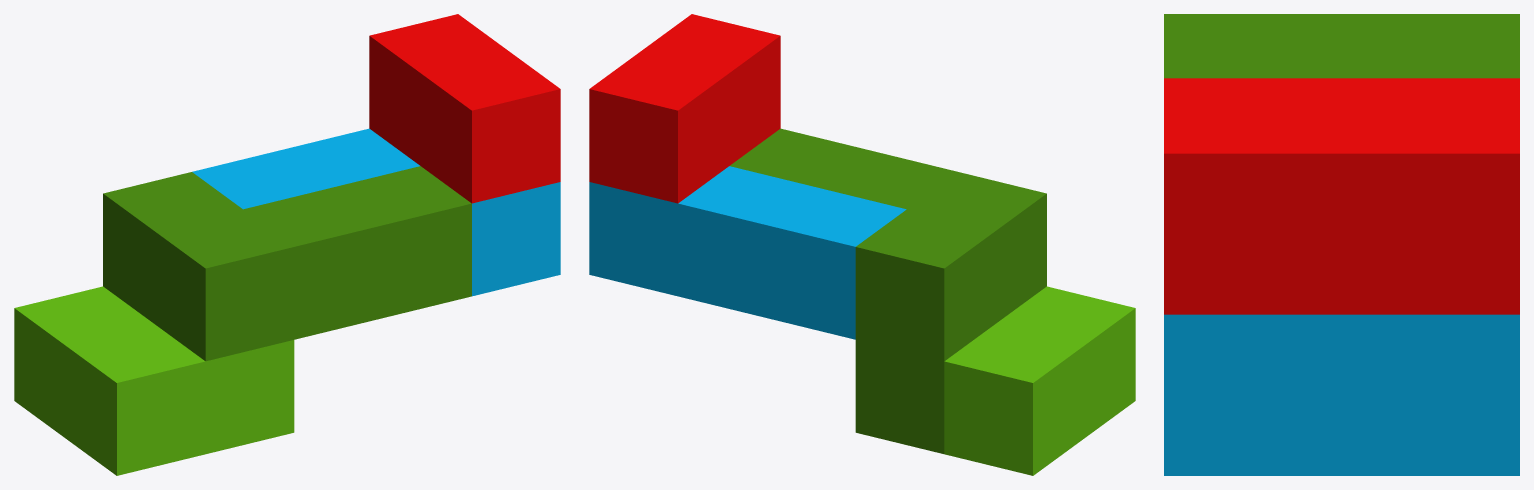
3 renders of one model, left to right at view 1: azimuth 30°, elevation 25°; view 2: azimuth 150°, elevation 25°; view 3: azimuth 270°, elevation 25°, orthographic. The views are drawn at different scales.
Visible parts, largest first — view 1: mergedBlocks(Clone); view 2: mergedBlocks(Clone); view 3: mergedBlocks(Clone).
Part boxes in pixels (left/top/right/bottom): mergedBlocks(Clone): left=14, top=14, right=560, bottom=475; mergedBlocks(Clone): left=589, top=14, right=1135, bottom=475; mergedBlocks(Clone): left=1164, top=14, right=1519, bottom=475.
Bounding box in the file's own units: 5 × 3 × 2.
Materials: 4 (4 with a texture image).
